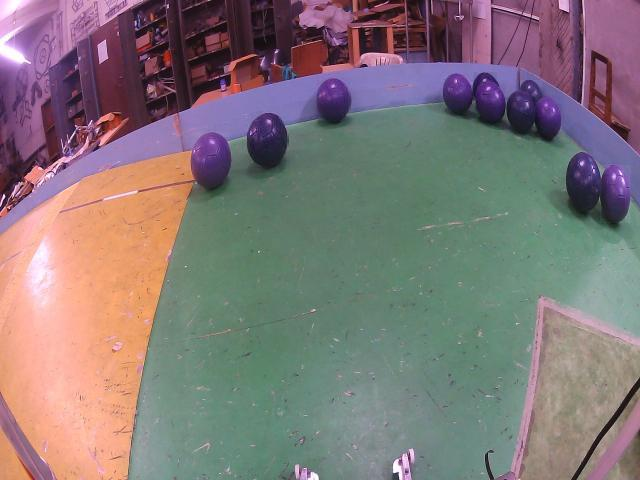jambhalya: (192, 132, 231, 188), (600, 165, 631, 223), (317, 79, 350, 123), (475, 82, 506, 123), (444, 74, 473, 113), (535, 97, 561, 139)
kaalyya: (247, 114, 288, 168), (566, 152, 601, 212), (506, 90, 535, 133), (474, 73, 497, 97), (520, 80, 542, 103)
